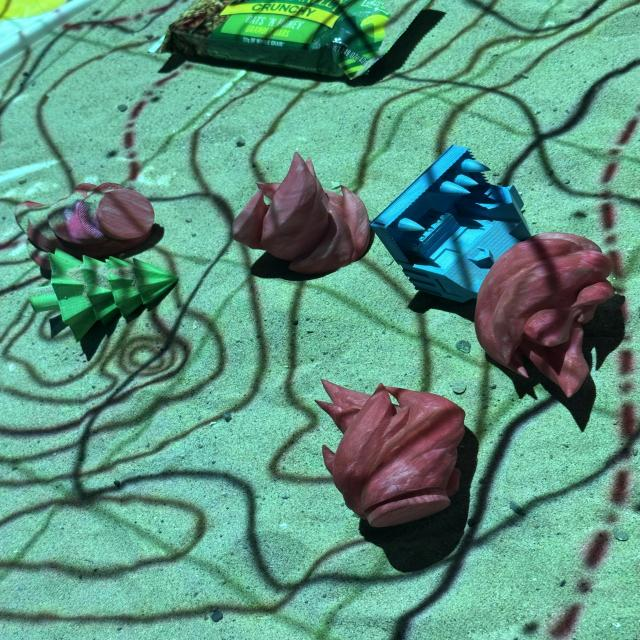fire: (475, 229, 620, 404), (317, 373, 473, 527), (235, 152, 373, 276), (13, 189, 161, 252)
house: (369, 143, 533, 304)
tree: (30, 244, 183, 339)
